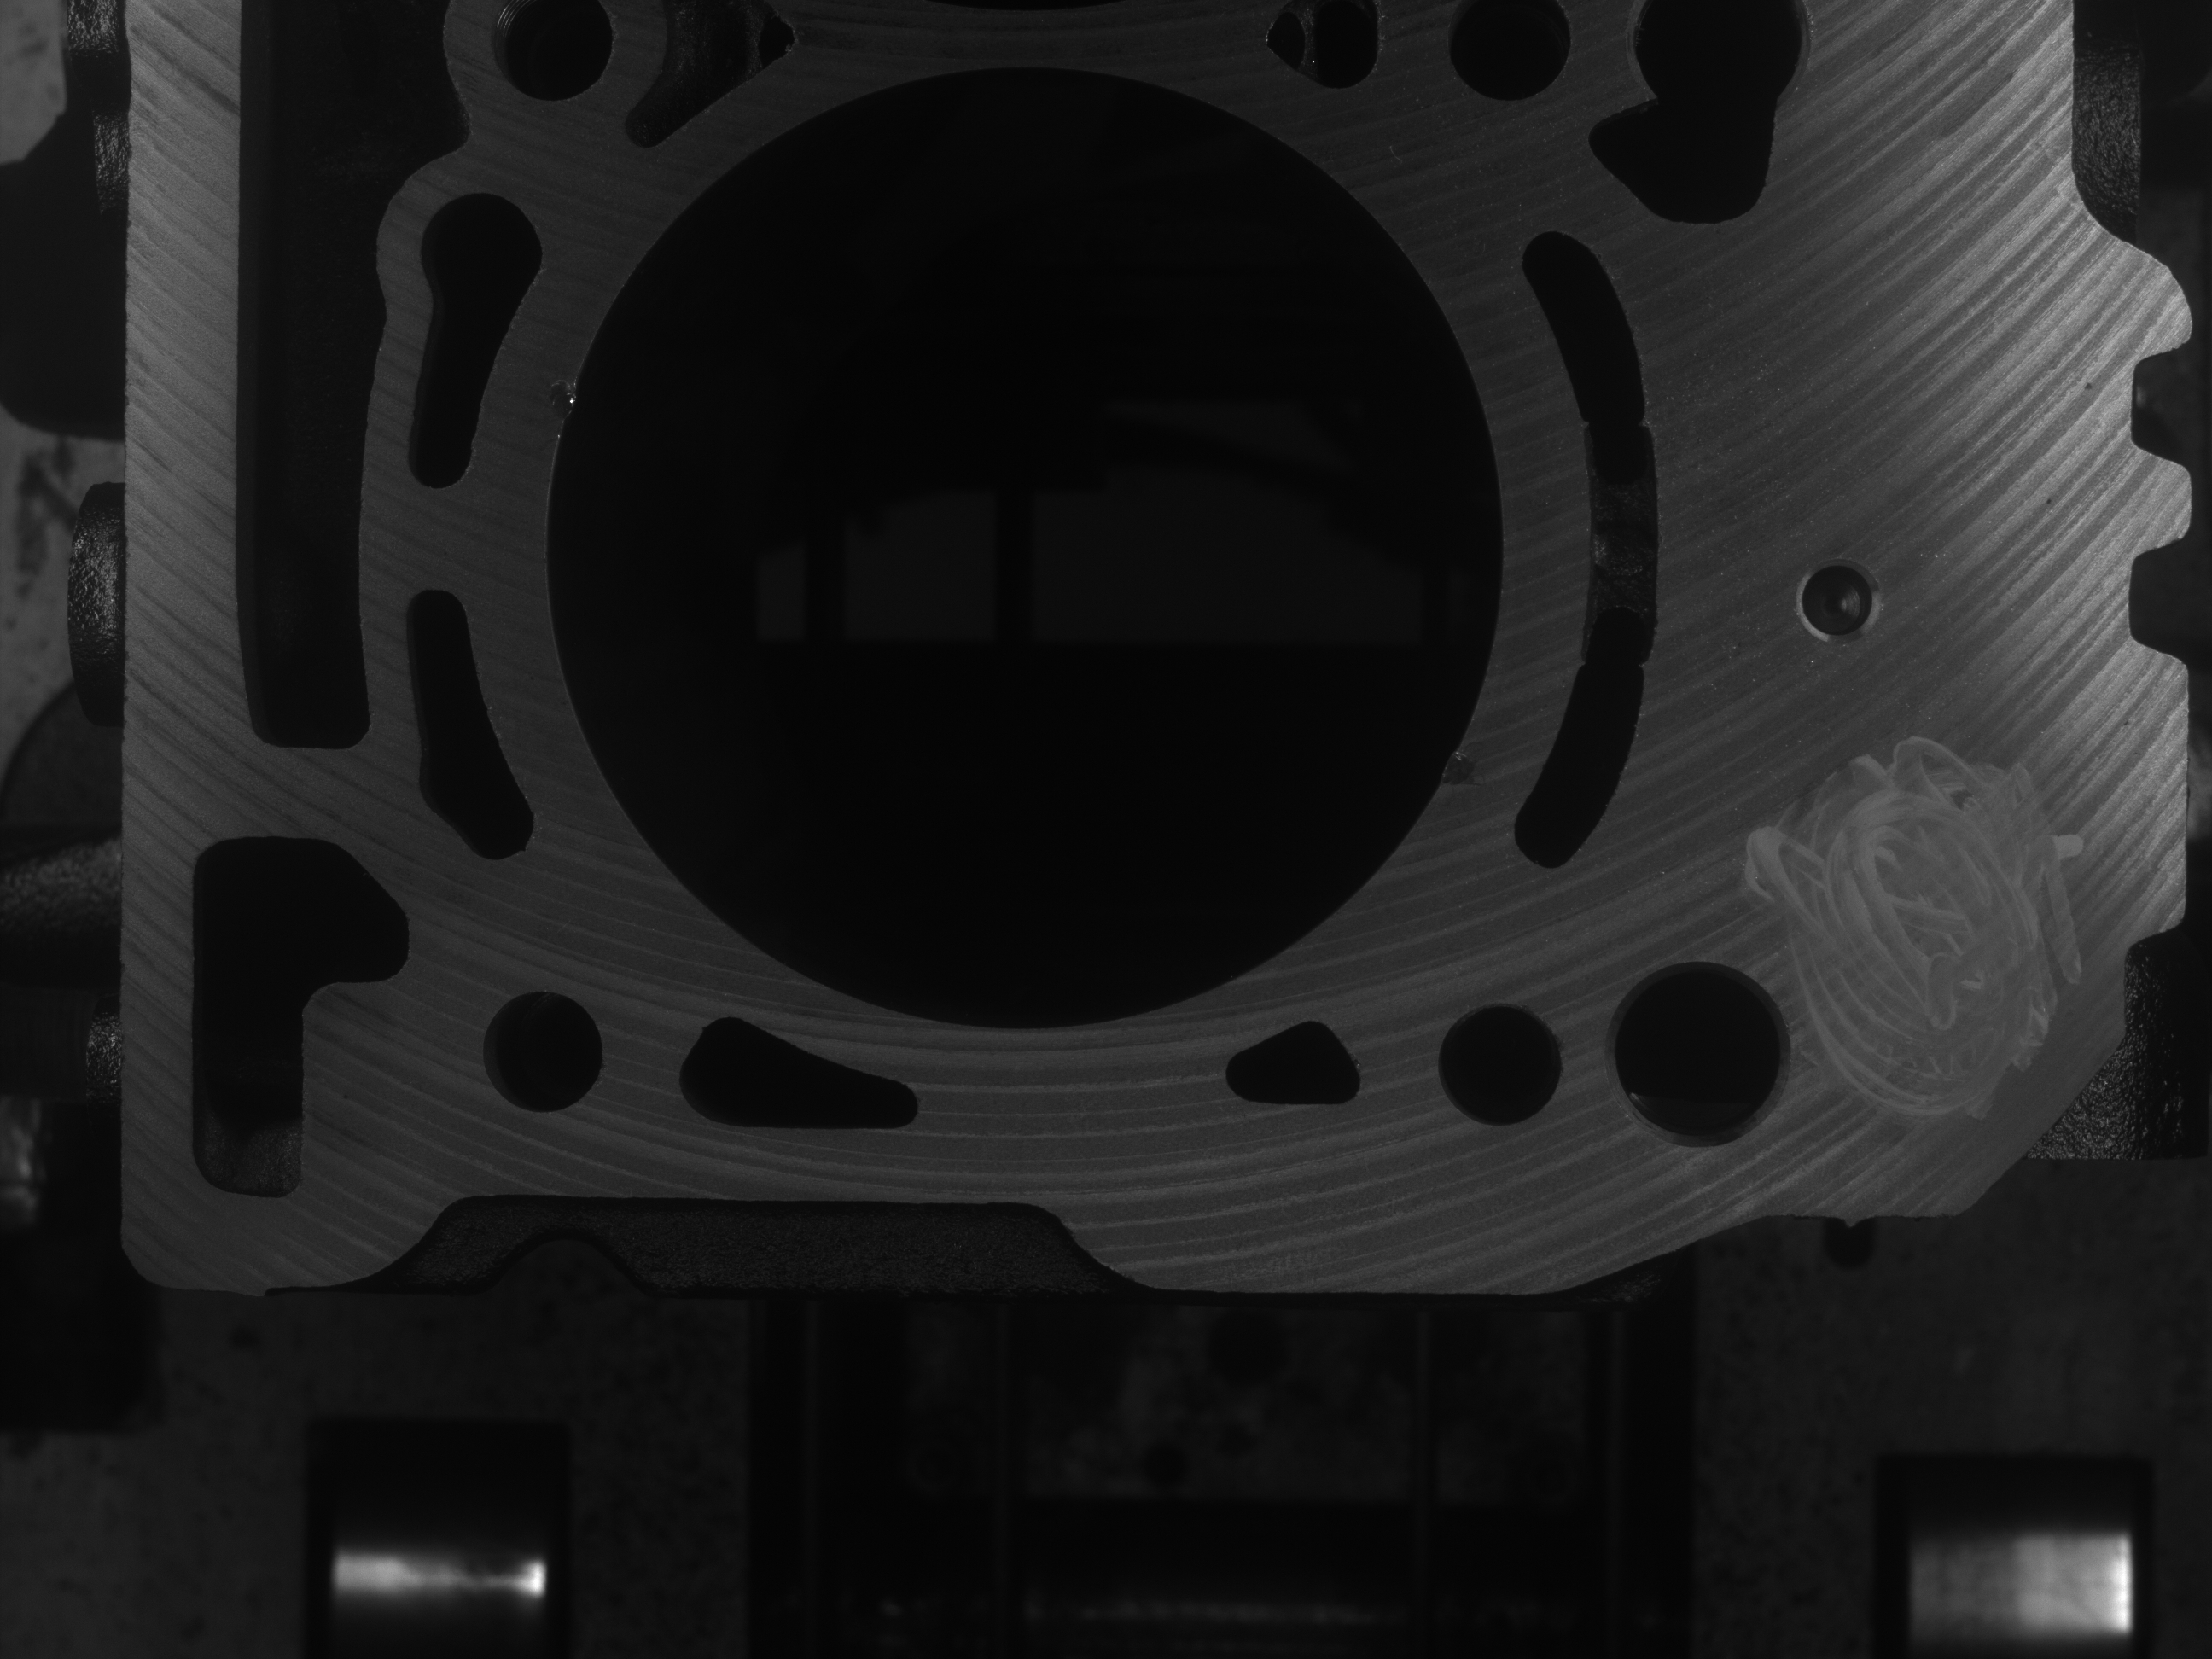dirty: (1778, 716, 2076, 1107)
shrinkage: (540, 354, 580, 422), (1447, 748, 1480, 784)
